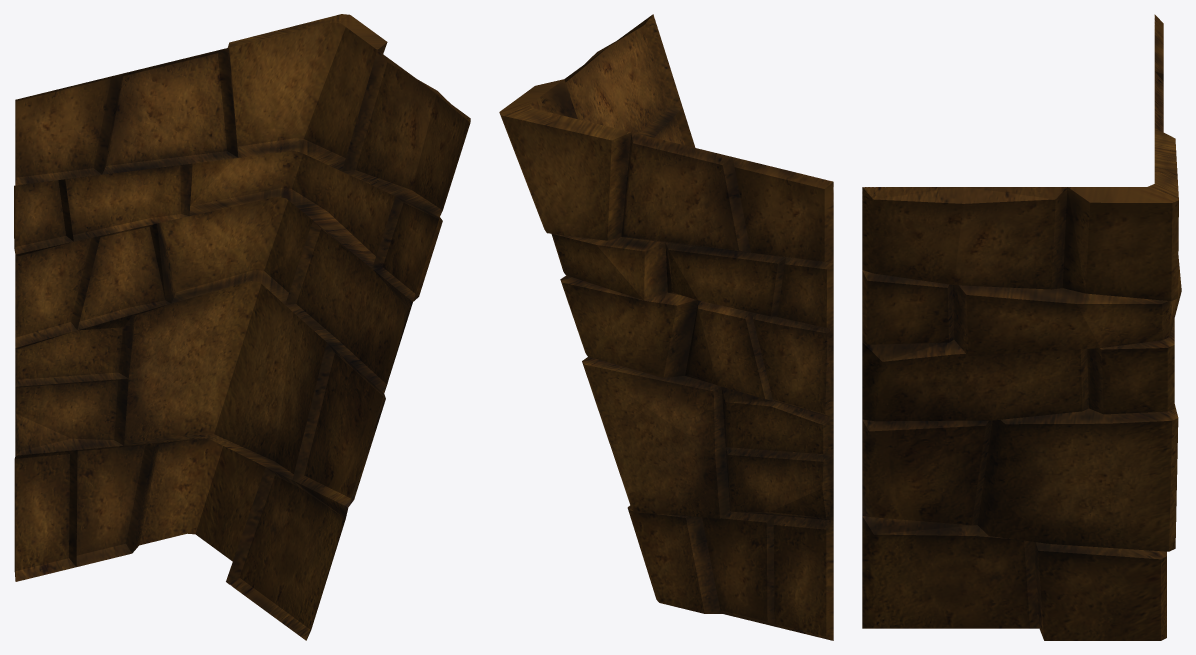
Rendered from RoundWall.fbx.
3 views of the same model, side by side, from view 1: azimuth 30°, elevation 25°; view 2: azimuth 150°, elevation 25°; view 3: azimuth 270°, elevation 25° (orthographic). The views are drawn at different scales.
Visible parts, largest first — view 1: WallRound; view 2: WallRound; view 3: WallRound.
Boxes of the visible parts, <box> form: WallRound: <box>14,14,470,640</box>; WallRound: <box>499,14,833,640</box>; WallRound: <box>862,14,1181,640</box>.
Bounding box in the file's own units: 149 × 200 × 109.
